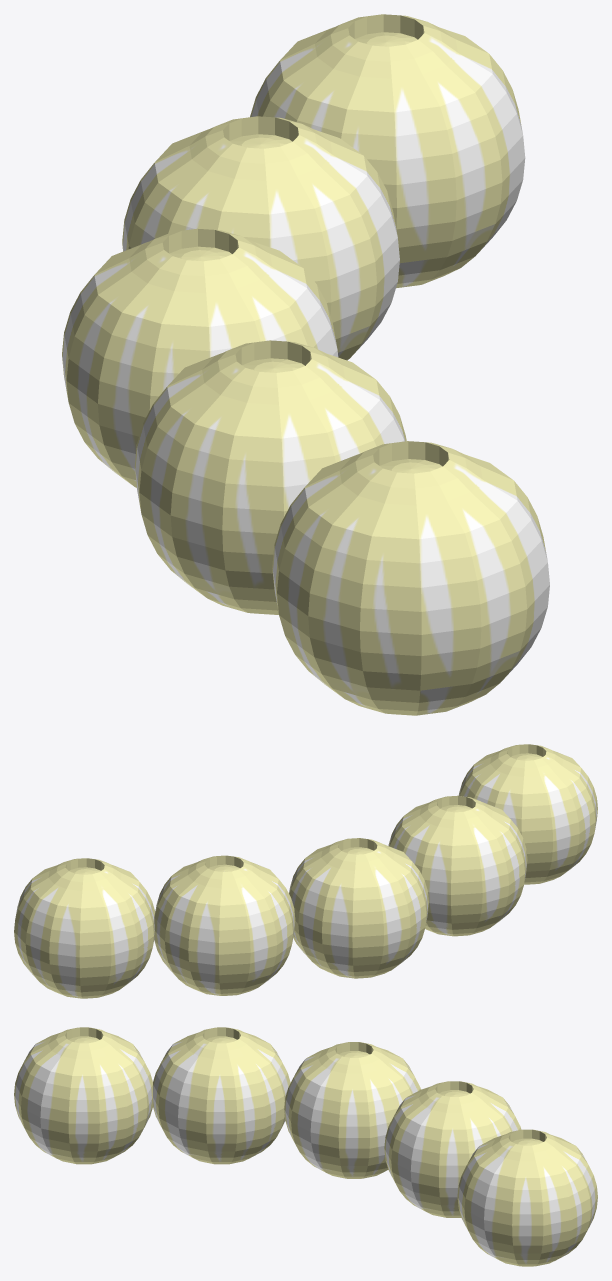
File: huevos_siropeta_epaphus.fbx
3 views of the same model, one above another, from view 1: azimuth 30°, elevation 25°; view 2: azimuth 150°, elevation 25°; view 3: azimuth 270°, elevation 25° (orthographic). The views are drawn at different scales.
Visible parts, largest first — view 1: Sphere, Sphere.001, Sphere.004, Sphere.002, Sphere.003; view 2: Sphere.003, Sphere.004, Sphere.002, Sphere.001, Sphere; view 3: Sphere.004, Sphere, Sphere.001, Sphere.002, Sphere.003.
Part boxes in pixels (box(x1,y1,x2,y2)): Sphere: box(272, 441, 549, 715); Sphere.001: box(134, 340, 406, 614); Sphere.004: box(250, 14, 525, 288); Sphere.002: box(62, 228, 338, 487); Sphere.003: box(122, 116, 399, 360); Sphere.003: box(154, 855, 295, 995); Sphere.004: box(14, 858, 155, 998); Sphere.002: box(289, 838, 428, 978); Sphere.001: box(388, 795, 527, 936); Sphere: box(458, 744, 597, 884); Sphere.004: box(457, 1129, 597, 1266); Sphere: box(14, 1027, 152, 1164); Sphere.001: box(153, 1027, 290, 1164); Sphere.002: box(284, 1042, 420, 1178); Sphere.003: box(384, 1081, 521, 1217).
Bounding box in the file's own units: 539 × 193 × 831.
Materials: 1 (1 with a texture image).
